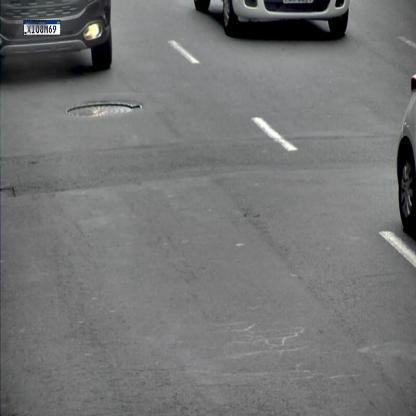PlacaM: (23, 20, 61, 35)
